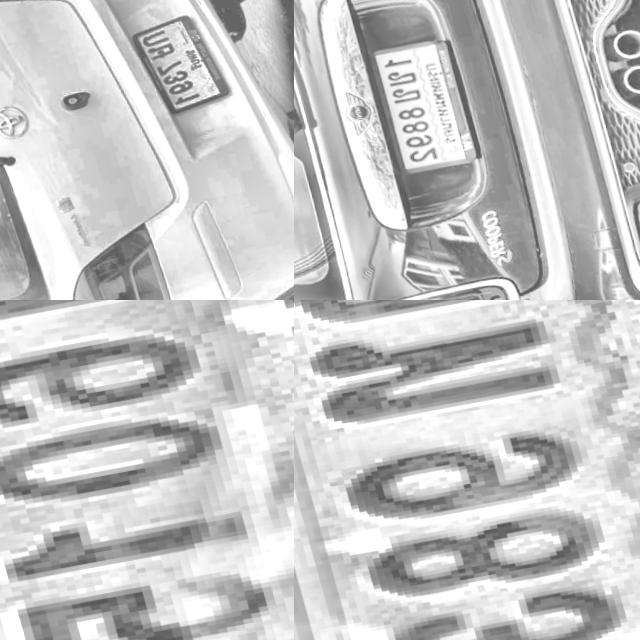license-plate: (294, 300, 640, 640), (0, 300, 294, 640), (353, 37, 476, 178), (121, 10, 232, 121)
